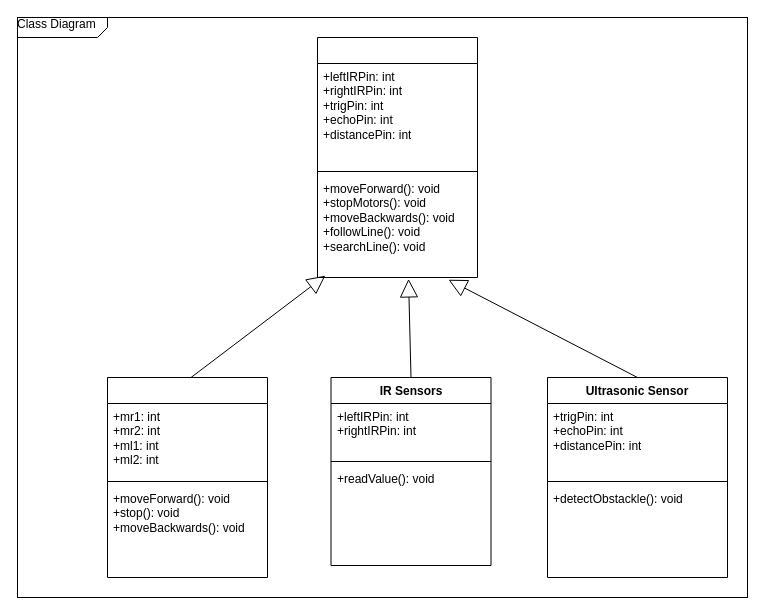
This 765x615 diagram has some shape labels left out. Here are the shapes that lost their labels. From the top down, the box of each, then its label:
(316, 36, 478, 278): Robo Car
(106, 376, 268, 578): Motor Control
